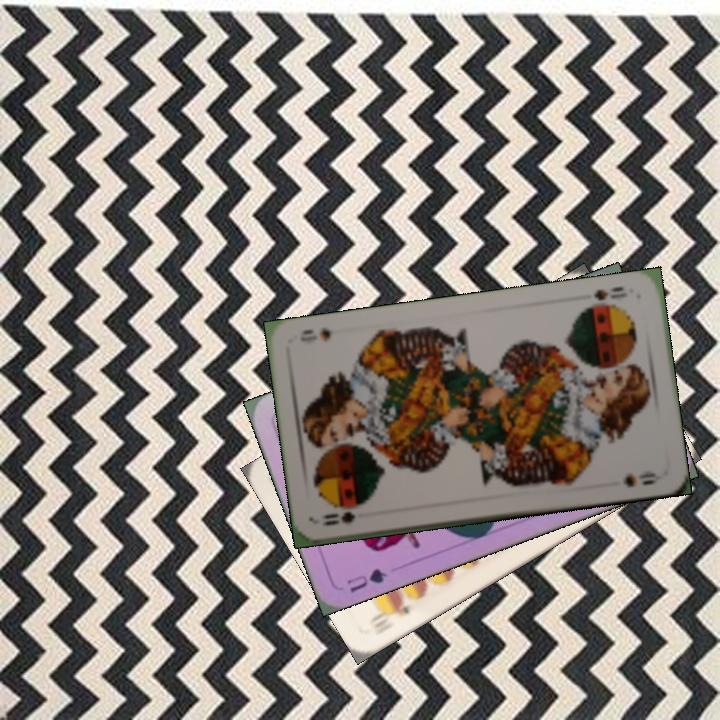E10: (370, 597, 412, 631)
GU: (342, 564, 390, 595)
SO: (317, 507, 358, 528), (590, 282, 630, 303)
